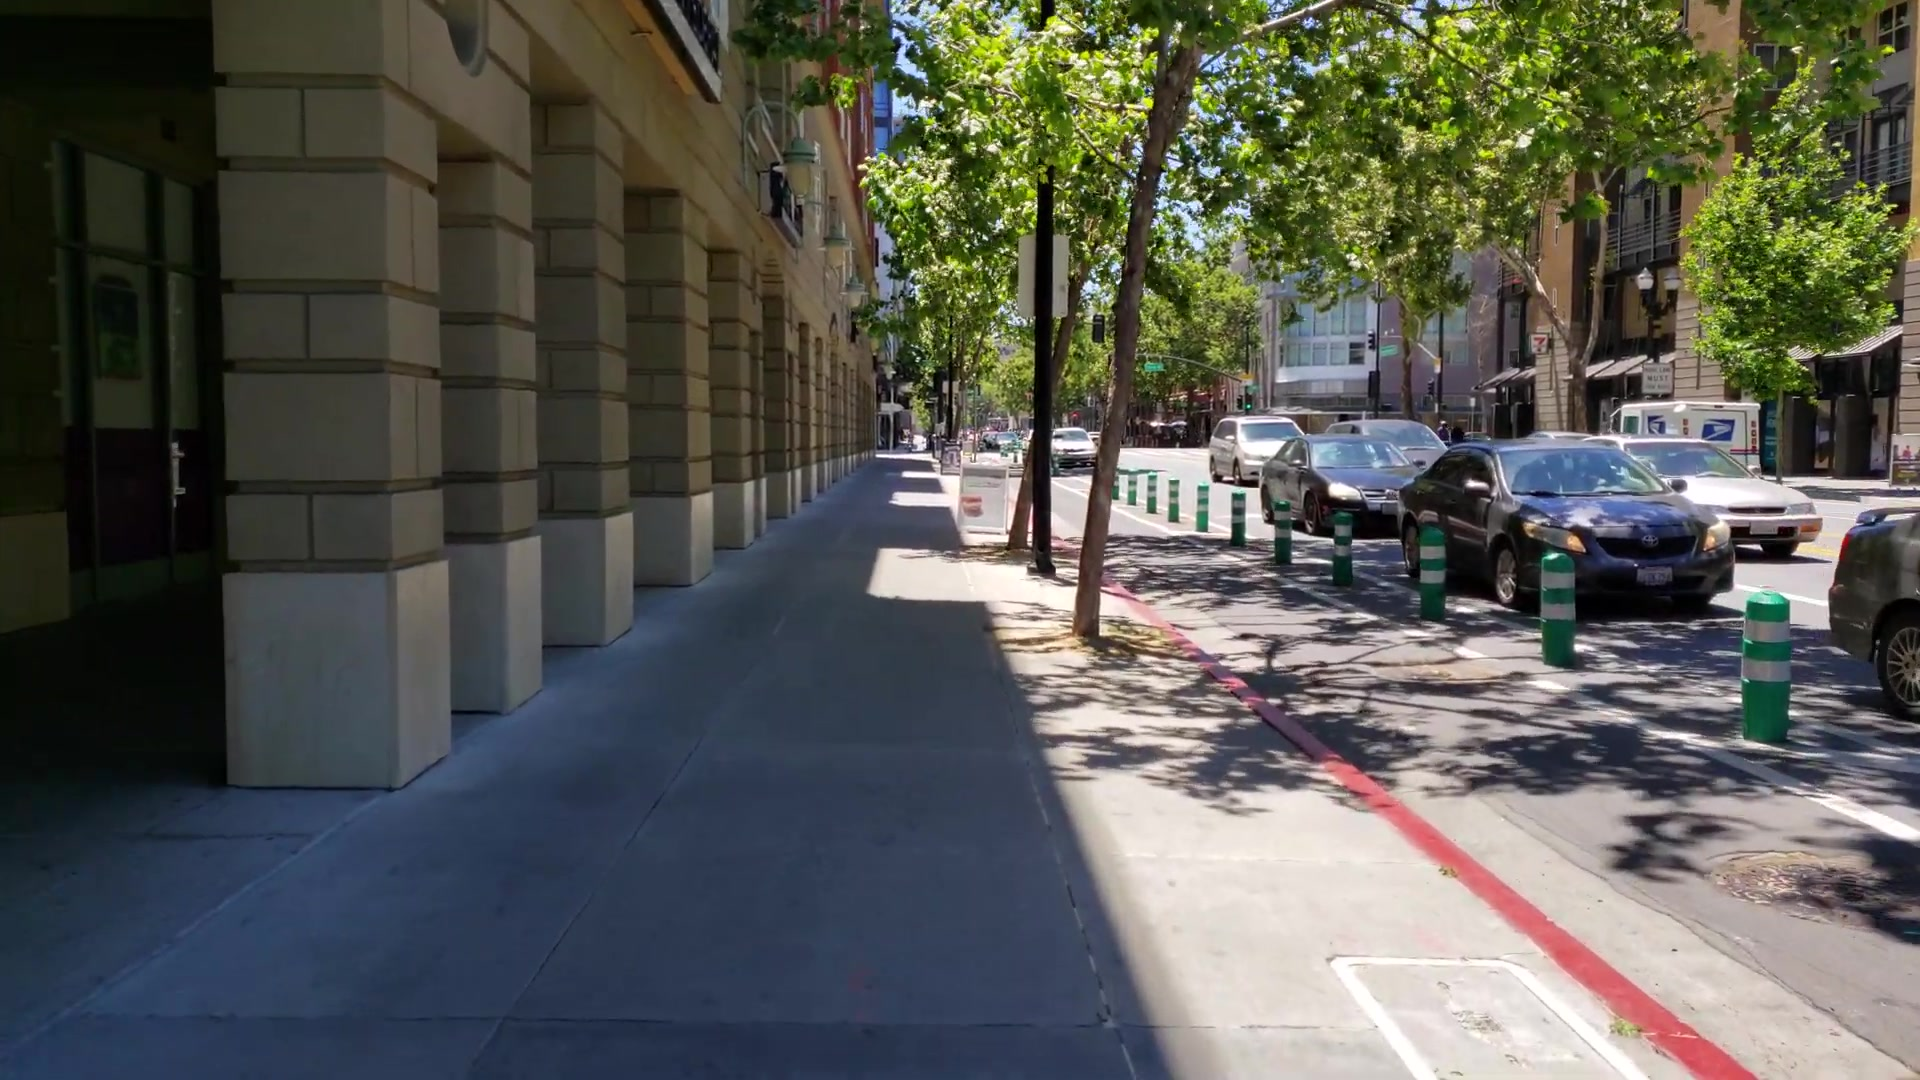vehicle: (1399, 444, 1734, 611), (1262, 436, 1428, 531)
